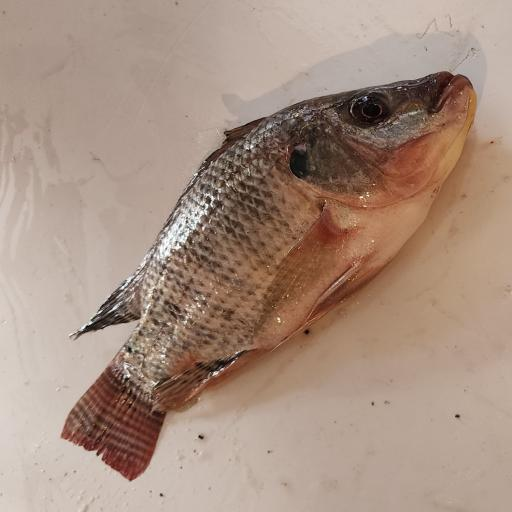Tilapia: (60, 71, 478, 482)
